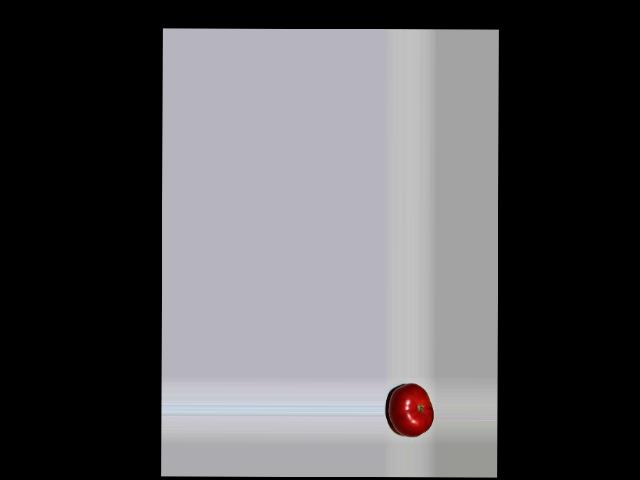tomato: (389, 383, 433, 437)
